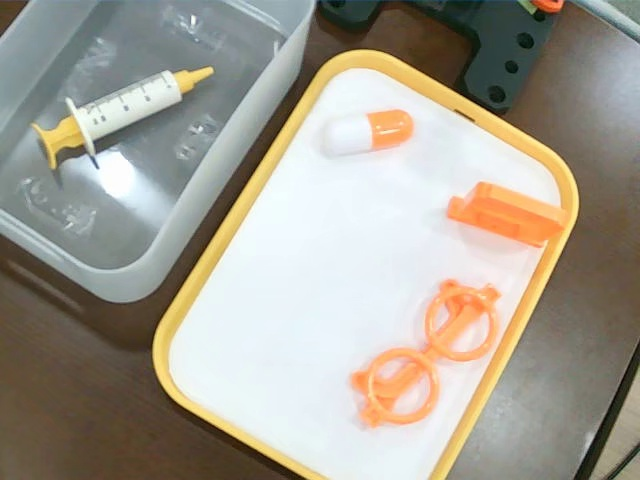pill: (321, 110, 414, 155)
syringe: (31, 66, 216, 172)
